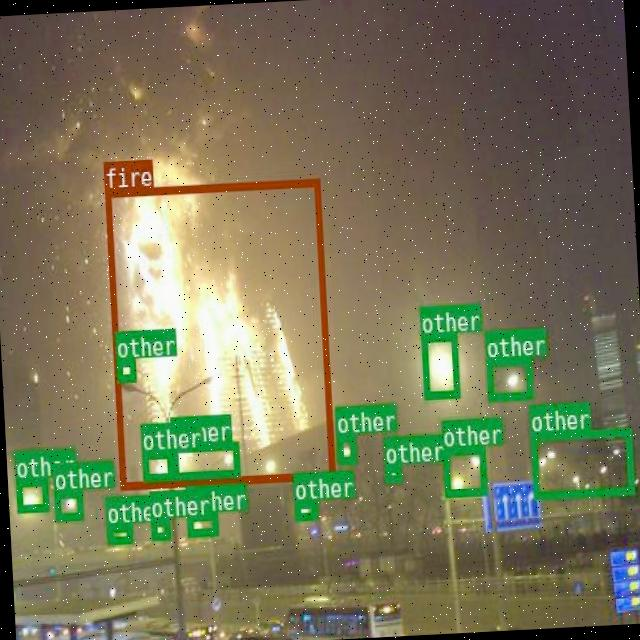fire: (104, 177, 334, 488)
